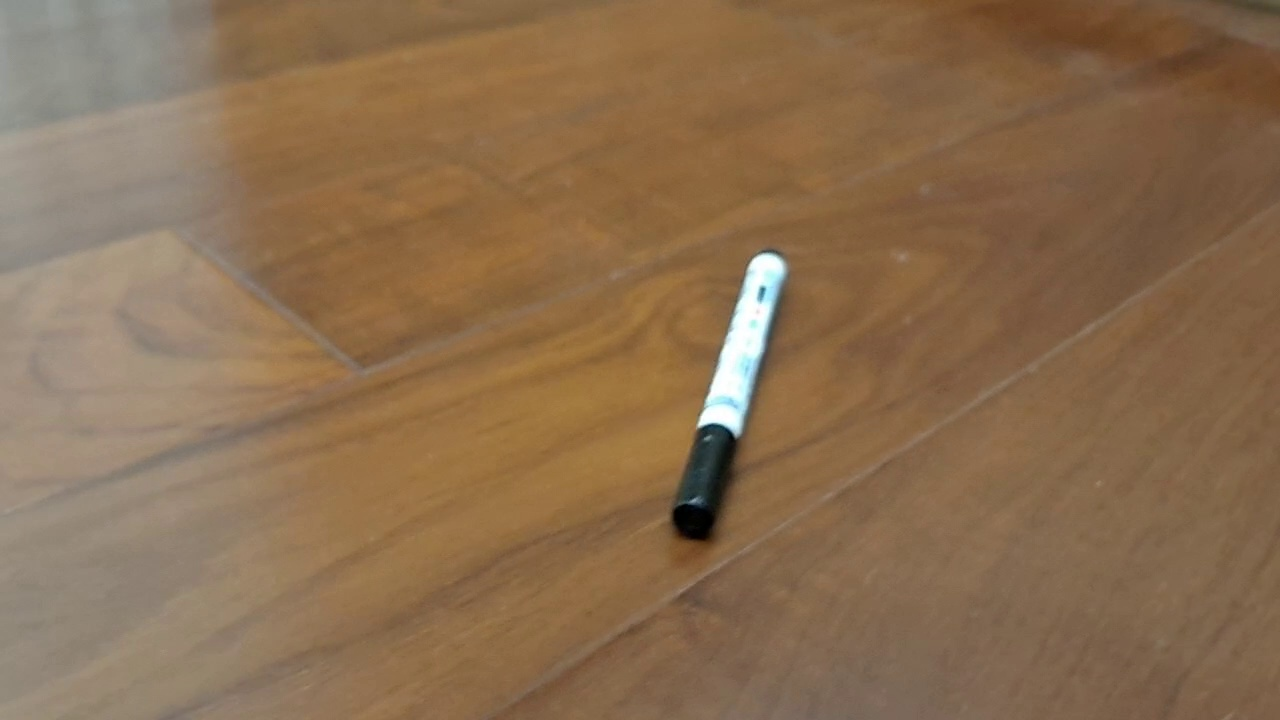pen: (672, 247, 789, 541)
